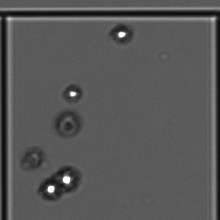Dead Cell: (20, 144, 44, 170), (56, 109, 79, 135)
Living Cell: (55, 164, 83, 193), (39, 176, 58, 200), (110, 26, 131, 45), (64, 81, 79, 101)
